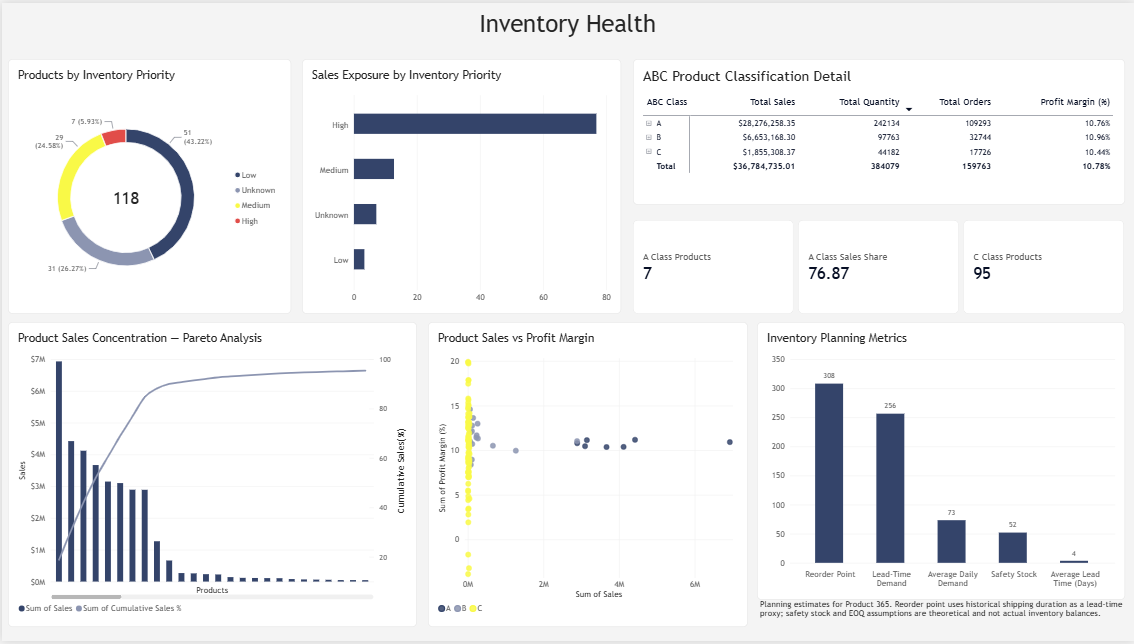

This screenshot's page, from the dashboard's own definition file:
{"tool":"powerbi","page":{"name":"Inventory Health","canvas":[1920,1080],"ordinal":2},"visuals":[{"type":"donutChart","title":"Products by Inventory Priority","fields":{"Category":["inventory_priority_summary.Inventory Priority"],"Y":["Sum(inventory_priority_summary.Products)"]},"box":[10.2,94.9,479.7,432.2],"z":0},{"type":"clusteredBarChart","title":"Sales Exposure by Inventory Priority","fields":{"Category":["inventory_priority_summary.Inventory Priority"],"Y":["Sum(inventory_priority_summary.Sales Share (%))"]},"box":[508.5,94.9,540.7,432.2],"z":1000},{"type":"scatterChart","title":"Product Sales vs Profit Margin","fields":{"Category":["product_abc.Product Name"],"Series":["product_abc.ABC Class"],"X":["Sum(product_abc.Sales)"],"Y":["Sum(product_abc.Profit Margin (%))"]},"box":[722,540.7,542.4,516.9],"z":2000},{"type":"pivotTable","title":"ABC Product Classification Detail","fields":{"Rows":["product_abc.ABC Class","product_abc.Product Name"],"Values":["Sum(product_abc.Sales)","Sum(product_abc.Quantity)","Sum(product_abc.Orders)","product_abc.cal_profit_per"]},"box":[1069.5,94.9,833.9,247.5],"z":3000},{"type":"lineClusteredColumnComboChart","title":"Product Sales Concentration — Pareto Analysis","fields":{"Category":["product_abc.Product Name"],"Y":["Sum(product_abc.Sales)"],"Y2":["Sum(product_abc.Cumulative Sales %)"]},"box":[10.2,540.7,693.2,516.9],"z":4000},{"type":"cardVisual","fields":{"Data":["customers.A Class Products","customers.A Class Sales Share","customers.C Class Products"]},"box":[1069.5,367.8,833.9,159.3],"z":5000},{"type":"clusteredColumnChart","title":"Inventory Planning Metrics","fields":{"Category":["product_365_inventory_planning.Metric"],"Y":["Sum(product_365_inventory_planning.Value)"]},"box":[1279.7,540.7,624,471.2],"z":6000,"group":"g1"},{"type":"textbox","box":[1285.4,1010.3,619.8,69.4],"z":7000,"group":"g1"},{"type":"group","id":"g1","title":"Group 1","box":[1279.7,540.7,625.4,539],"z":7001},{"type":"textbox","title":"Inventory Health","box":[666.1,11.9,584.7,61],"z":7002}]}

Visuals, with their boxes in screenshot pixels (x1, y1, x2, y2), scaled from the page's 1920x1080 canvas onto the 1134x644 screenshot:
"Products by Inventory Priority" donutChart: [6,57,289,314]
"Sales Exposure by Inventory Priority" clusteredBarChart: [300,57,620,314]
"Product Sales vs Profit Margin" scatterChart: [426,322,747,631]
"ABC Product Classification Detail" pivotTable: [632,57,1124,204]
"Product Sales Concentration — Pareto Analysis" lineClusteredColumnComboChart: [6,322,415,631]
cardVisual - customers.A Class Products x customers.A Class Sales Share: [632,219,1124,314]
"Inventory Planning Metrics" clusteredColumnChart: [756,322,1124,603]
textbox: [759,602,1125,643]
"Group 1" group: [756,322,1125,643]
"Inventory Health" textbox: [393,7,739,43]
